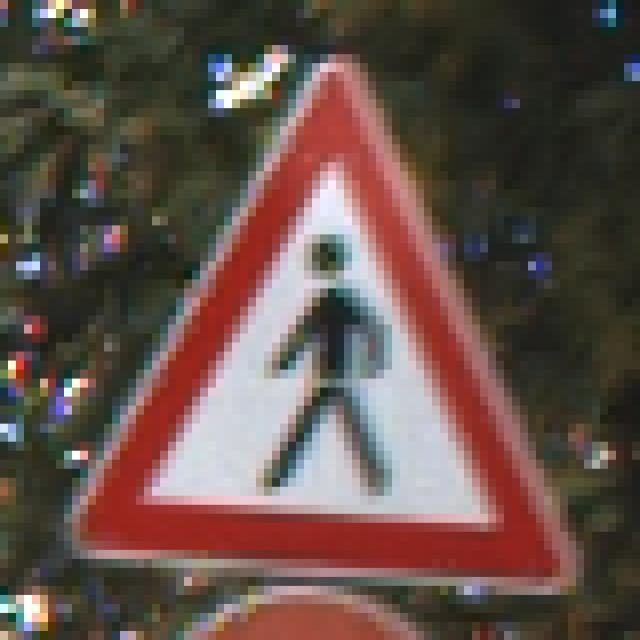pedestrian crossing: (66, 58, 573, 598)
